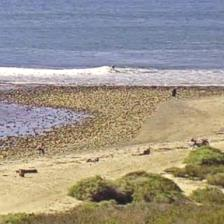surfer: (112, 65, 116, 70)
